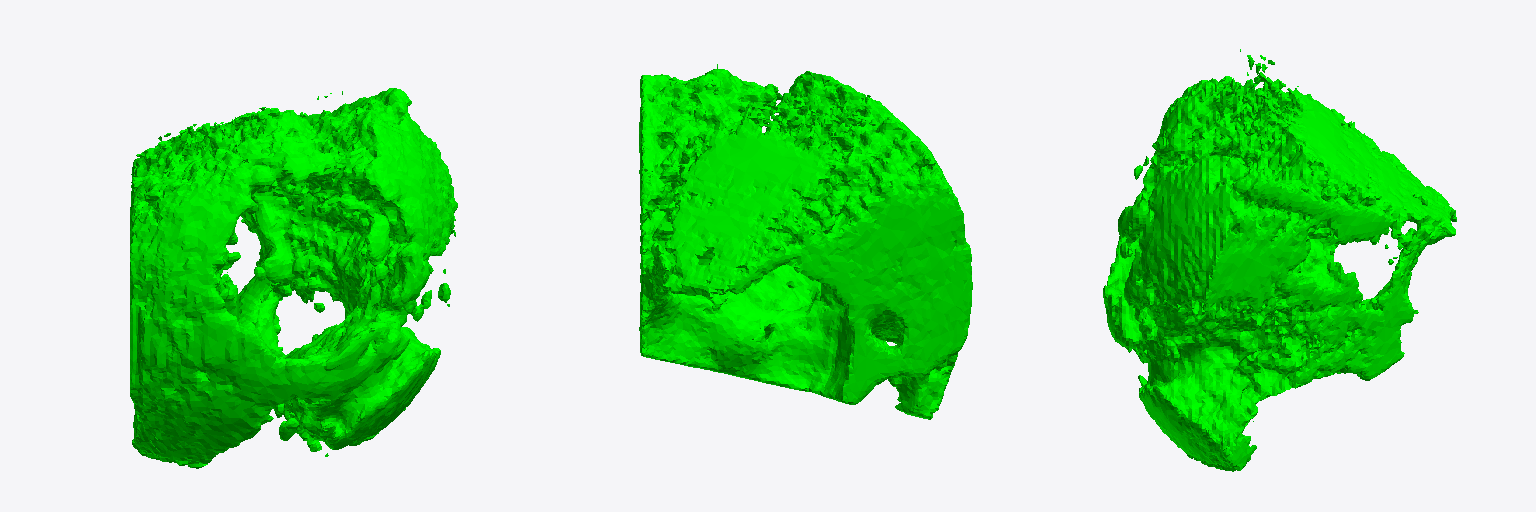
The model's file is B939XXXX-1_base_35.obj.
3 renders of one model, left to right at view 1: azimuth 30°, elevation 25°; view 2: azimuth 150°, elevation 25°; view 3: azimuth 270°, elevation 25°, orthographic.
Parts seen in each view (by area): view 1: 35_base; view 2: 35_base; view 3: 35_base.
Boxes of the visible parts, <box> form: 35_base: <box>130,88,457,468</box>; 35_base: <box>639,64,972,419</box>; 35_base: <box>1103,49,1456,471</box>.
Size of the model in its own units: 219 by 214 by 204.